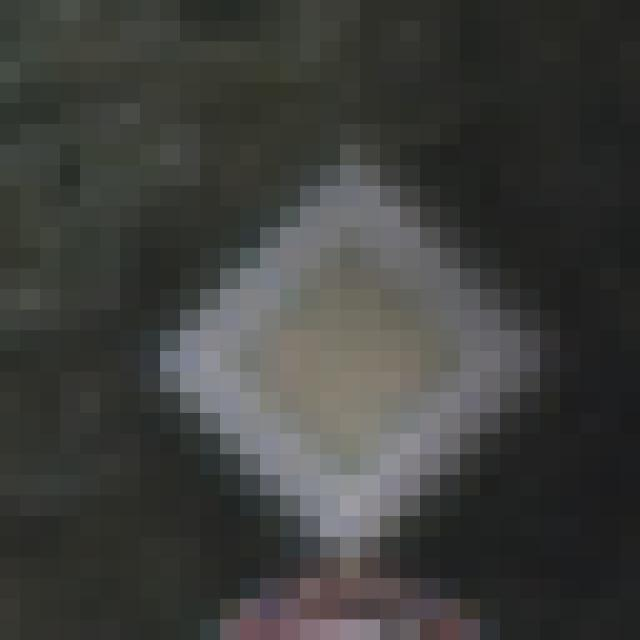Main Road: (121, 104, 541, 538)
